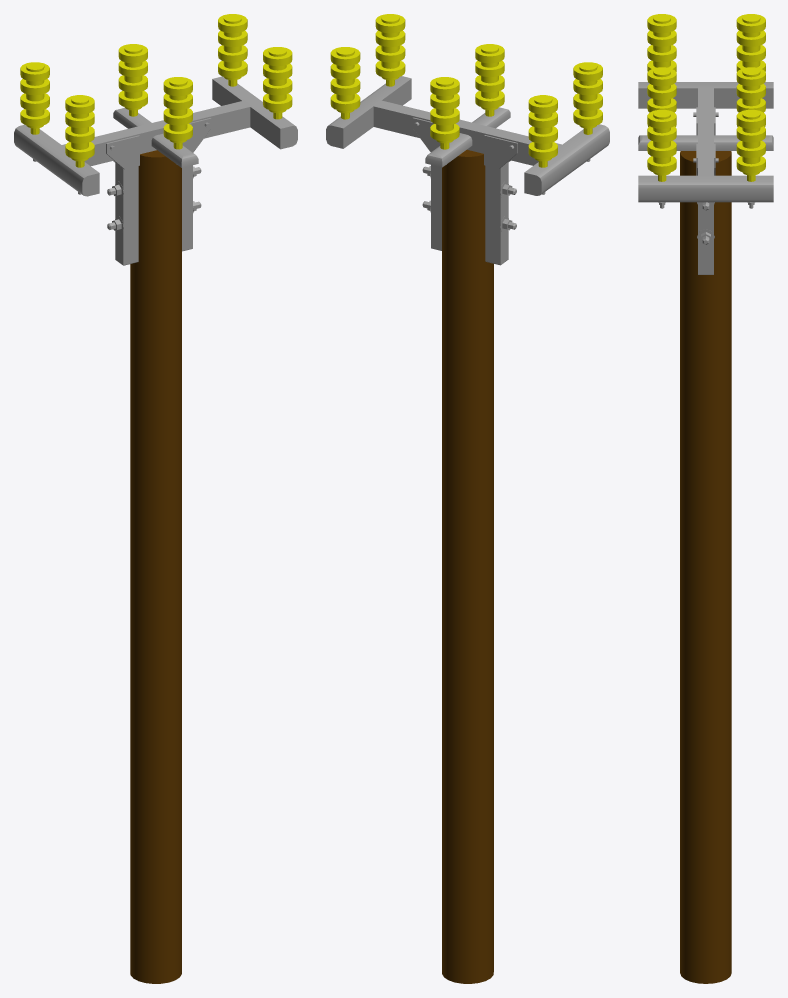
Rendered from Electric_Pylon01.fbx.
3 views of the same model, side by side, from view 1: azimuth 30°, elevation 25°; view 2: azimuth 150°, elevation 25°; view 3: azimuth 270°, elevation 25° (orthographic).
Parts seen in each view (by area): view 1: pCylinder1, ecrou4, pCylinder62; view 2: pCylinder1, ecrou4, pCylinder62; view 3: pCylinder1, ecrou4, pCylinder62.
Part boxes in pixels (<box>): pCylinder1: <box>130,150,181,983</box>; ecrou4: <box>14,76,297,265</box>; pCylinder62: <box>20,14,292,167</box>; pCylinder1: <box>442,150,493,983</box>; ecrou4: <box>326,76,609,265</box>; pCylinder62: <box>330,14,602,167</box>; pCylinder1: <box>680,151,731,983</box>; ecrou4: <box>638,82,773,274</box>; pCylinder62: <box>647,14,765,181</box>.
Bounding box in the file's own units: 0.8547 × 3.35 × 0.4534.
